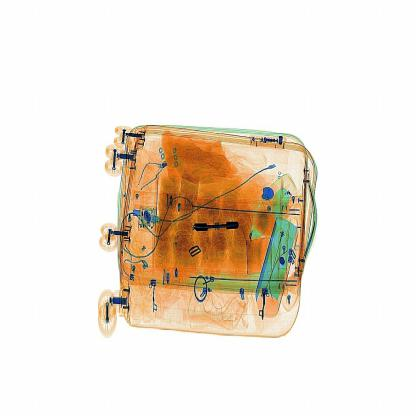knife: (192, 211, 242, 242)
